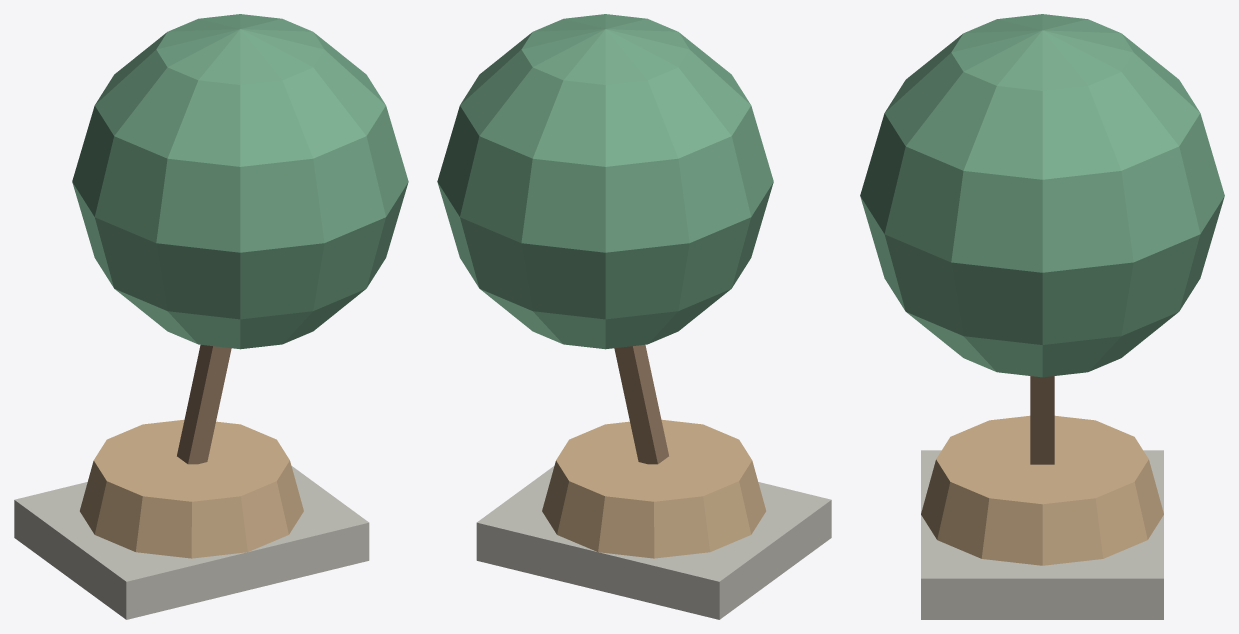
The model's file is feudal-japan-castle-town-pine-on-stand-a4ad8f8b__26402.glb.
3 views of the same model, side by side, from view 1: azimuth 30°, elevation 25°; view 2: azimuth 150°, elevation 25°; view 3: azimuth 270°, elevation 25° (orthographic). The views are drawn at different scales.
Visible parts, largest first — view 1: pine-on-stand; view 2: pine-on-stand; view 3: pine-on-stand.
Part boxes in pixels (left/top/right/bottom): pine-on-stand: left=14, top=14, right=408, bottom=619; pine-on-stand: left=437, top=14, right=831, bottom=619; pine-on-stand: left=860, top=14, right=1224, bottom=619.
Bounding box in the file's own units: 1.3 × 2 × 1.2.
